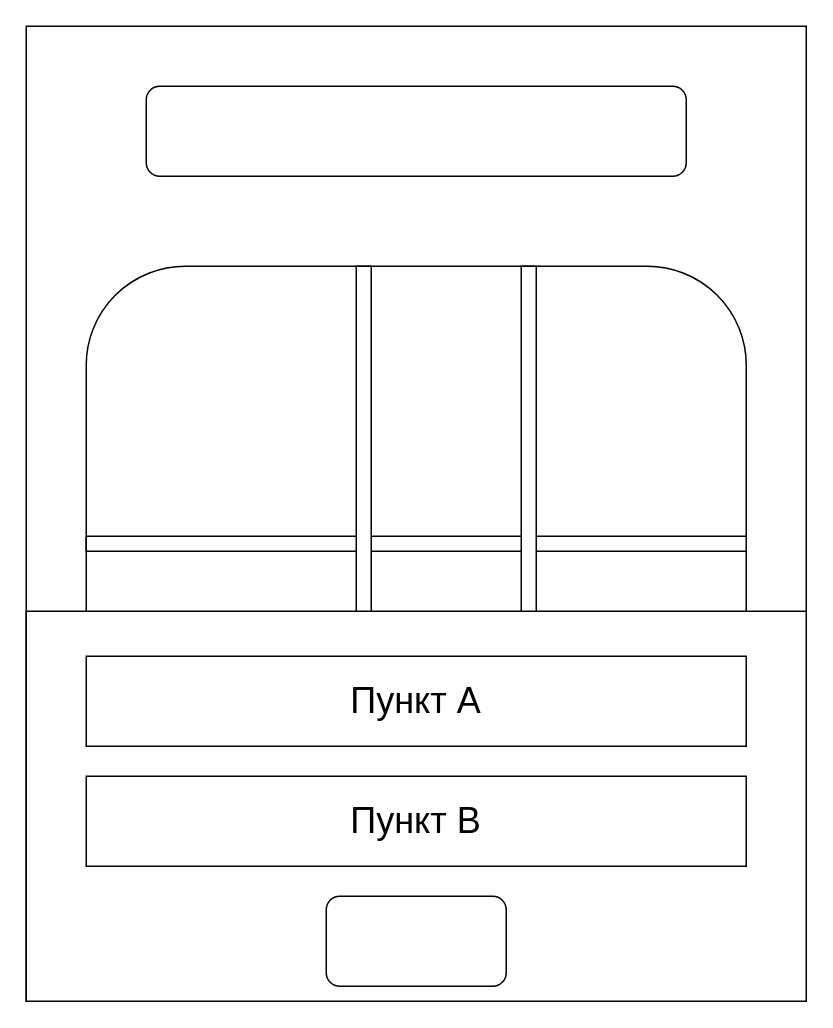
This 833x1028 diagram has some shape labels left out. The shapes that lost their labels are listed below. From the top down, each one's centre as x and y in pixels, then its label:
(415,130): Транспорт
(415,940): Готово
